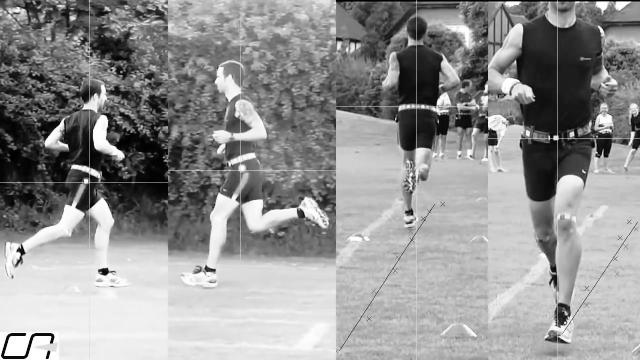berlari: (490, 1, 622, 344), (182, 60, 332, 298), (2, 72, 132, 292), (378, 12, 460, 230)
